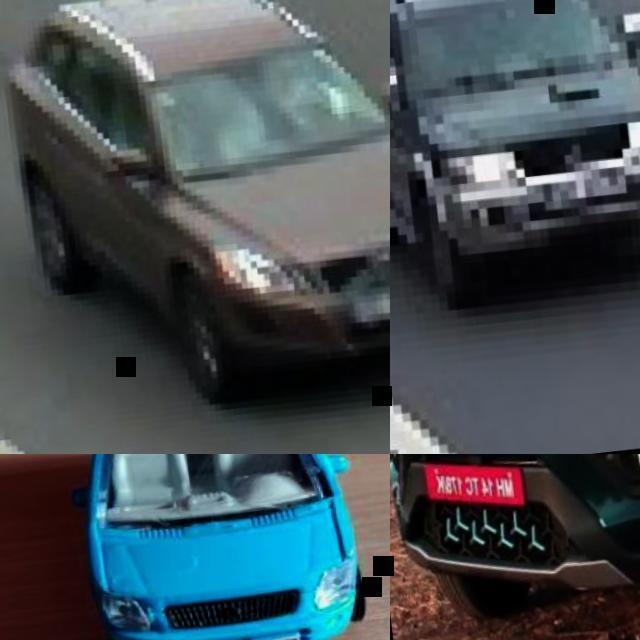car: (8, 0, 392, 402), (389, 0, 639, 303)
